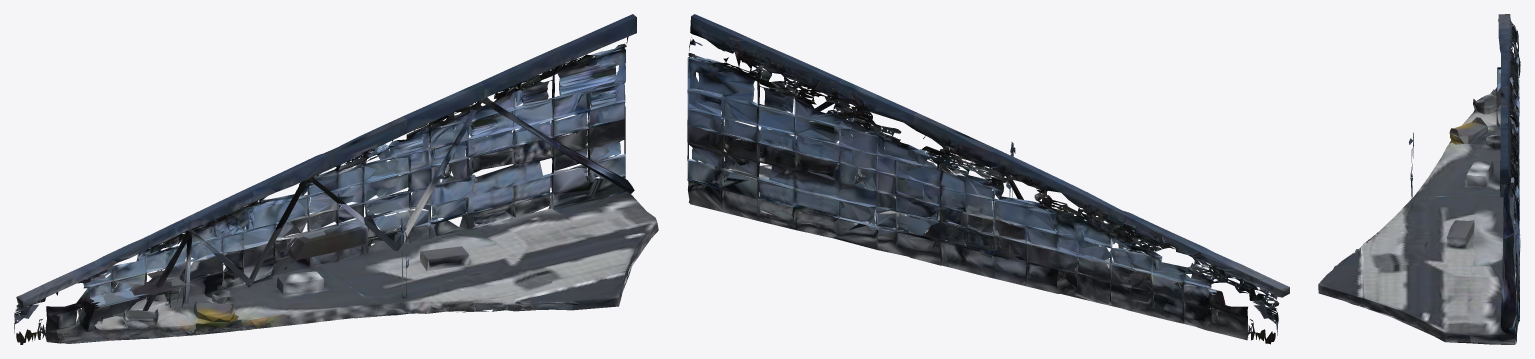
Rendered from construction-03.glb.
The picture shows the model from 3 angles, left to right: view 1: azimuth 30°, elevation 25°; view 2: azimuth 150°, elevation 25°; view 3: azimuth 270°, elevation 25°; orthographic projection. The views are drawn at different scales.
Visible parts, largest first — view 1: tmpc8elatfz.obj; view 2: tmpc8elatfz.obj; view 3: tmpc8elatfz.obj.
Boxes of the visible parts, x1=… form: tmpc8elatfz.obj: x1=14, y1=14, x2=658, y2=344; tmpc8elatfz.obj: x1=687, y1=14, x2=1289, y2=344; tmpc8elatfz.obj: x1=1318, y1=14, x2=1520, y2=344.
Bounding box in the file's own units: 1.74 × 0.5164 × 0.5339.
Materials: 1 (1 with a texture image).
